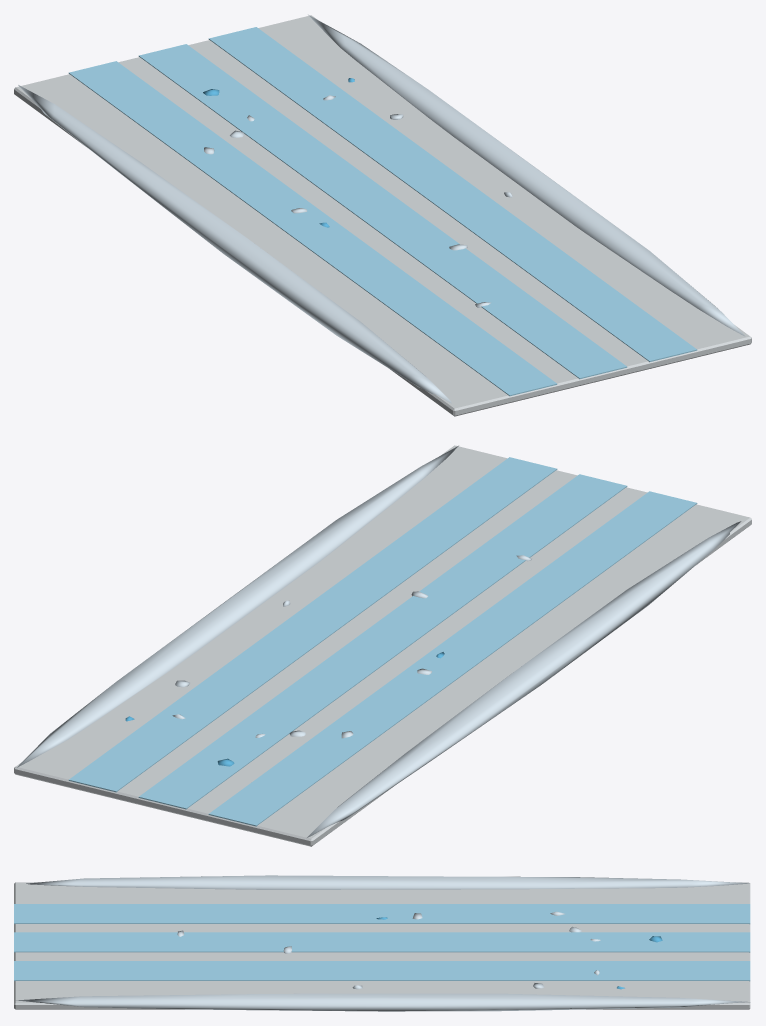
File: hd_rd_ice.gltf
The picture shows the model from 3 angles, top to bottom: view 1: azimuth 30°, elevation 25°; view 2: azimuth 150°, elevation 25°; view 3: azimuth 270°, elevation 25°; orthographic projection. The views are drawn at different scales.
Visible parts, largest first — view 1: snowbase, ice2, ice0, ice1, lip0, lip1; view 2: snowbase, ice2, ice0, ice1, lip0, lip1; view 3: snowbase, ice1, ice2, ice0, lip1, lip0.
Part boxes in pixels (x1,y1,x2,y2): snowbase: [14, 15, 751, 416]; ice2: [208, 27, 697, 362]; ice0: [68, 61, 557, 396]; ice1: [138, 44, 627, 379]; lip0: [18, 85, 451, 403]; lip1: [308, 14, 745, 336]; snowbase: [14, 445, 751, 846]; ice2: [68, 457, 557, 792]; ice0: [208, 491, 697, 826]; ice1: [138, 474, 627, 809]; lip0: [307, 521, 741, 837]; lip1: [17, 445, 458, 767]; snowbase: [14, 882, 750, 1009]; ice1: [14, 932, 750, 952]; ice2: [14, 961, 750, 981]; ice0: [14, 904, 750, 924]; lip1: [16, 993, 750, 1011]; lip0: [26, 875, 749, 889].
Bounding box in the file's own units: 10.03 × 0.4512 × 24.05.
